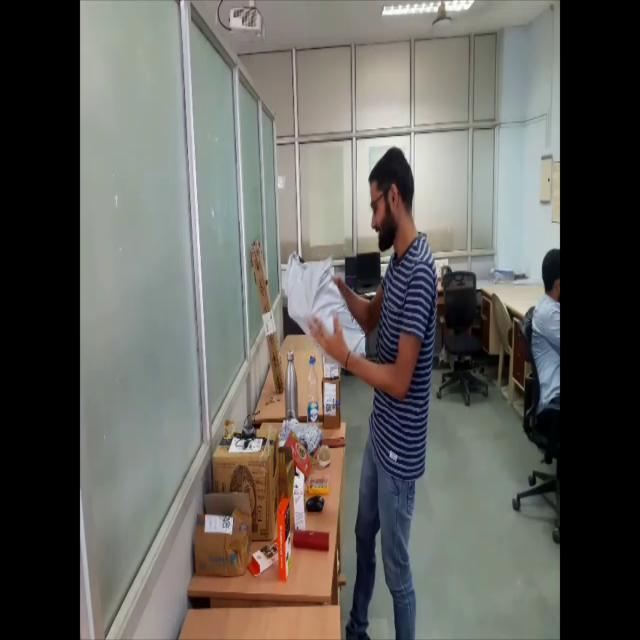normal: (281, 146, 441, 639)
